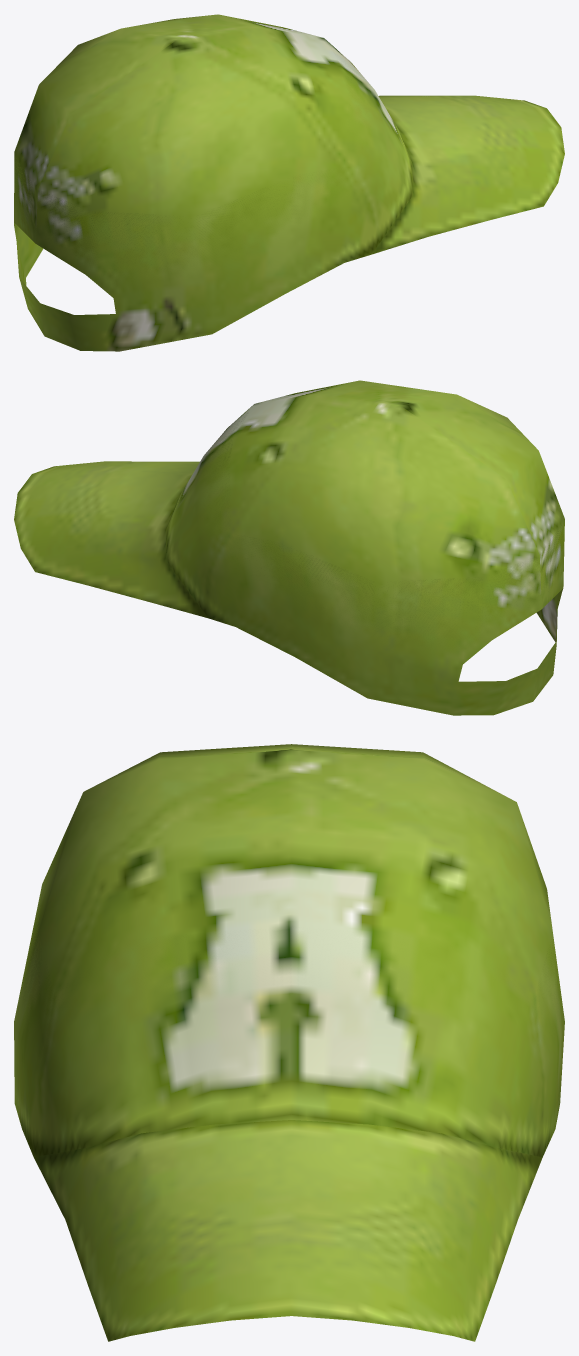
Rendered from hat_0450017.FBX.
3 views of the same model, one above another, from view 1: azimuth 30°, elevation 25°; view 2: azimuth 150°, elevation 25°; view 3: azimuth 270°, elevation 25° (orthographic). The views are drawn at different scales.
Visible parts, largest first — view 1: hat_0450017; view 2: hat_0450017; view 3: hat_0450017.
Part boxes in pixels (x1,y1,x2,y2): hat_0450017: [14, 14, 564, 351]; hat_0450017: [14, 380, 564, 715]; hat_0450017: [14, 744, 564, 1341].
Bounding box in the file's own units: 35.72 × 17.61 × 19.98.
